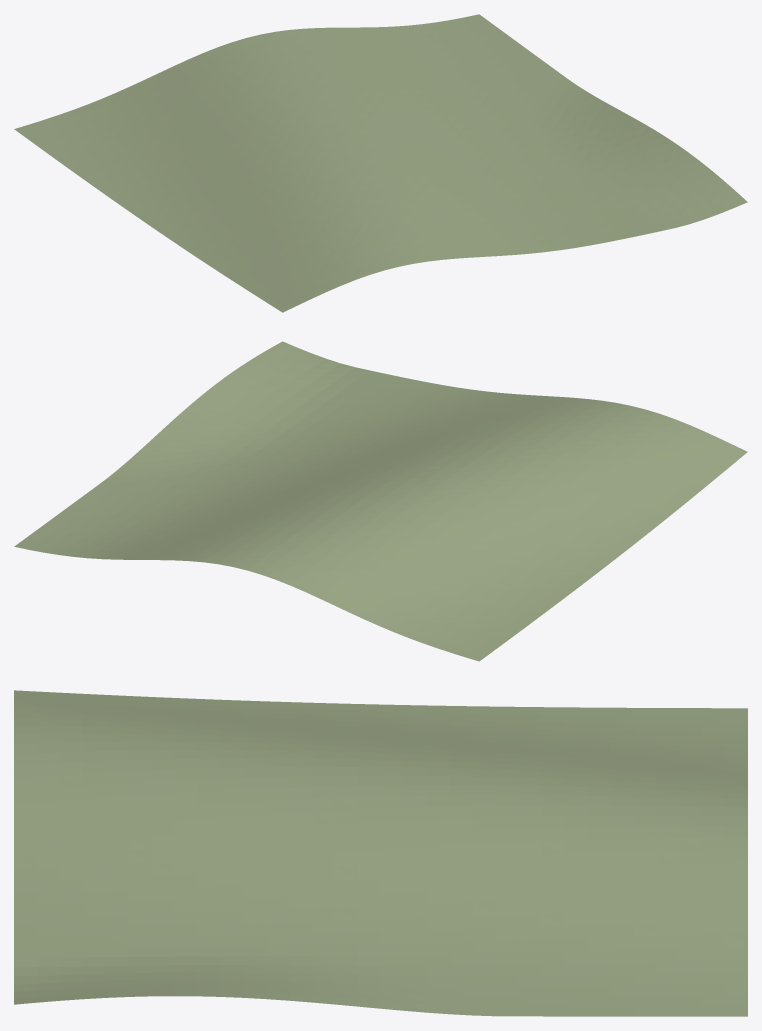
File: desert-3-6.glb
The picture shows the model from 3 angles, top to bottom: view 1: azimuth 30°, elevation 25°; view 2: azimuth 150°, elevation 25°; view 3: azimuth 270°, elevation 25°; orthographic projection. The views are drawn at different scales.
Visible parts, largest first — view 1: desert-3-6; view 2: desert-3-6; view 3: desert-3-6.
Part boxes in pixels (x1,y1,x2,y2): desert-3-6: (14,14,747,312); desert-3-6: (14,341,747,661); desert-3-6: (14,690,747,1016).
Bounding box in the file's own units: 512 × 37.72 × 512.
